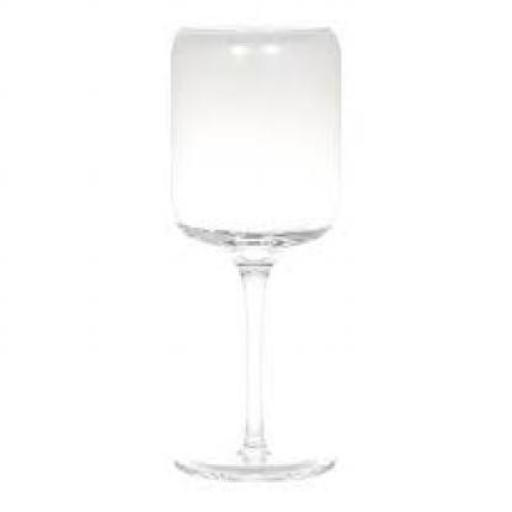glass: (168, 25, 337, 478)
